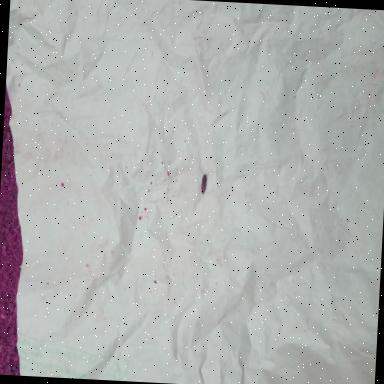pbw: (197, 168, 211, 196)
